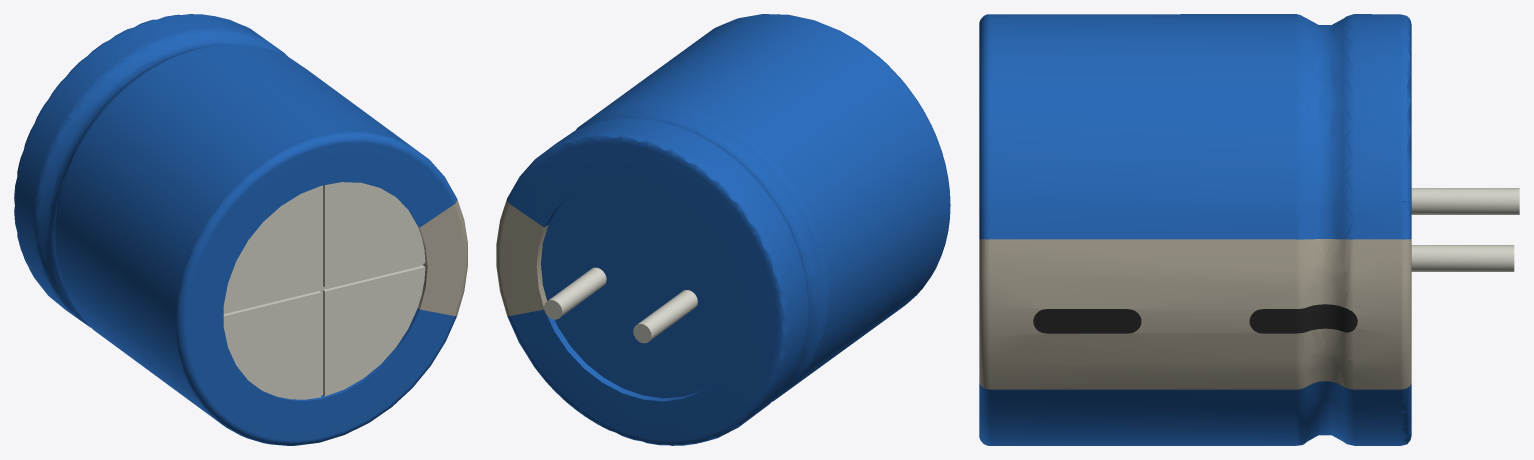
File: cp-radial-d8.0-p2.50.glb
3 renders of one model, left to right at view 1: azimuth 30°, elevation 25°; view 2: azimuth 150°, elevation 25°; view 3: azimuth 270°, elevation 25°, orthographic. The views are drawn at different scales.
Visible parts, largest first — view 1: PLASTIC-BLUE-01, PIN-01, IC-LABEL-01; view 2: PLASTIC-BLUE-01, IC-LABEL-01, PIN-01; view 3: PLASTIC-BLUE-01, IC-LABEL-01, PIN-01, IC-BODY-EPOXY-04.
Part boxes in pixels (box(x1,y1,x2,y2)): PLASTIC-BLUE-01: box(14, 14, 457, 445); PIN-01: box(223, 182, 425, 399); IC-LABEL-01: box(418, 199, 467, 315); PLASTIC-BLUE-01: box(507, 14, 950, 445); IC-LABEL-01: box(496, 199, 548, 316); PIN-01: box(544, 267, 697, 343); PLASTIC-BLUE-01: box(979, 14, 1411, 445); IC-LABEL-01: box(979, 239, 1411, 389); PIN-01: box(1411, 188, 1519, 271); IC-BODY-EPOXY-04: box(1033, 304, 1357, 333).
Bounding box in the file's own units: 8 × 8 × 10.
